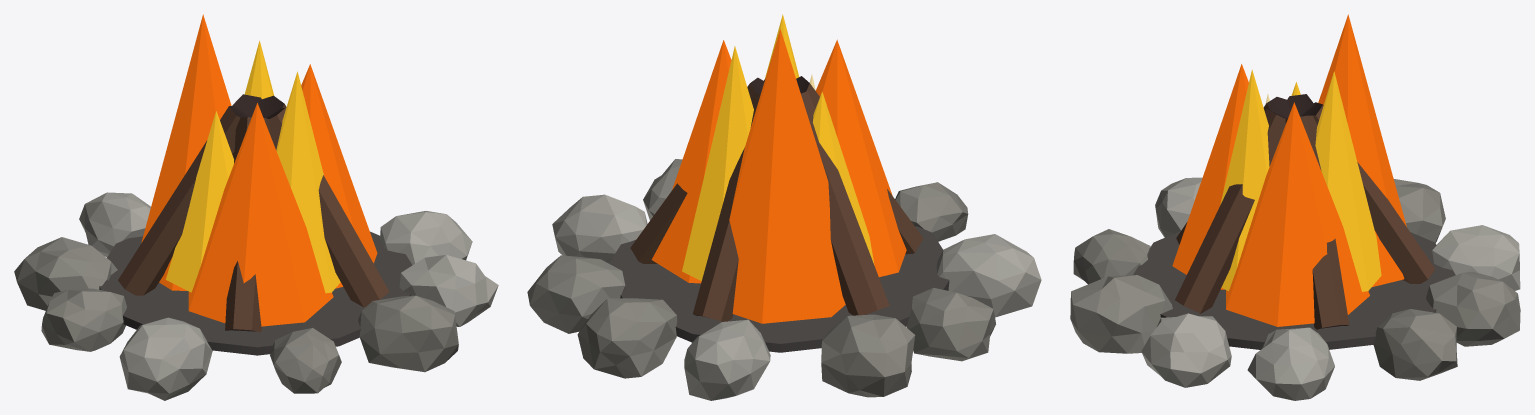
Rendered from SM_Campfire.glb.
3 renders of one model, left to right at view 1: azimuth 30°, elevation 25°; view 2: azimuth 150°, elevation 25°; view 3: azimuth 270°, elevation 25°, orthographic. The views are drawn at different scales.
Parts seen in each view (by area): view 1: SM_Campfire; view 2: SM_Campfire; view 3: SM_Campfire.
Boxes of the visible parts, x1=… form: SM_Campfire: x1=14, y1=14, x2=498, y2=400; SM_Campfire: x1=527, y1=14, x2=1041, y2=400; SM_Campfire: x1=1070, y1=14, x2=1520, y2=400.
Bounding box in the file's own units: 1.05 × 0.7051 × 0.9964.
2 materials, 2 textured.
